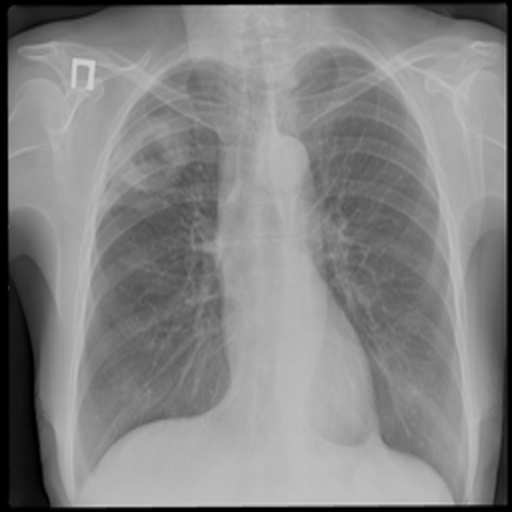TB: (104, 109, 197, 203)
